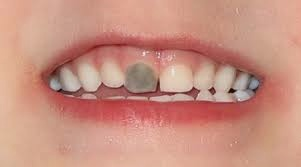Tooth Discoloration: (120, 61, 162, 95)
